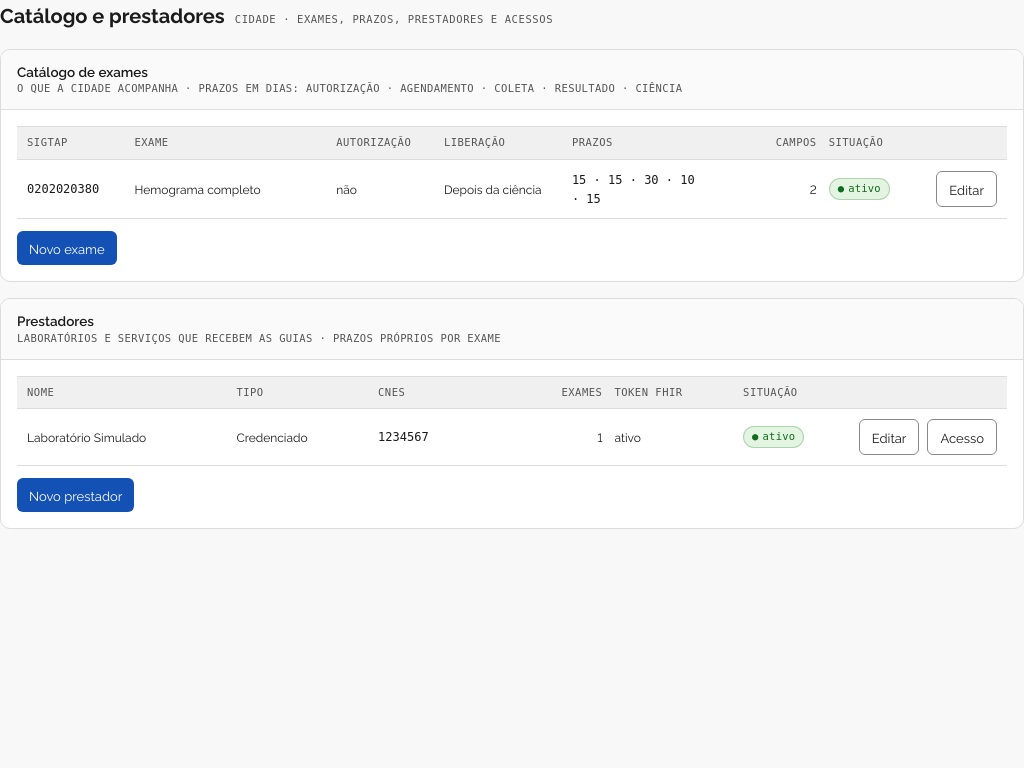
Test case: ExamsAdmin — prestadores › depois de revogar, o acesso relido só oferece Gerar
What coordinates should you click on to do the following:
click the button with aria-label "Acesso de Laboratório Simulado"
I would click on:
 (962, 437)
Its box is 927,419 -> 997,455.
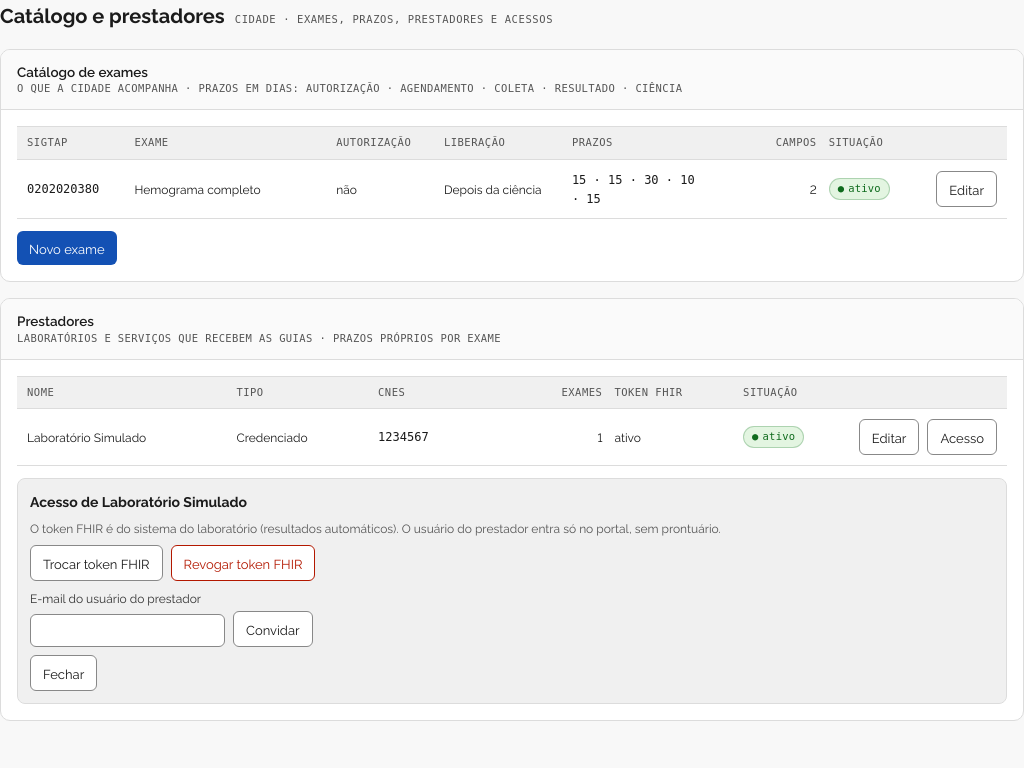
What coordinates should you click on to do the following:
click the button "Revogar token FHIR"
I would click on:
 (243, 563)
Its box is 171,545 -> 315,581.
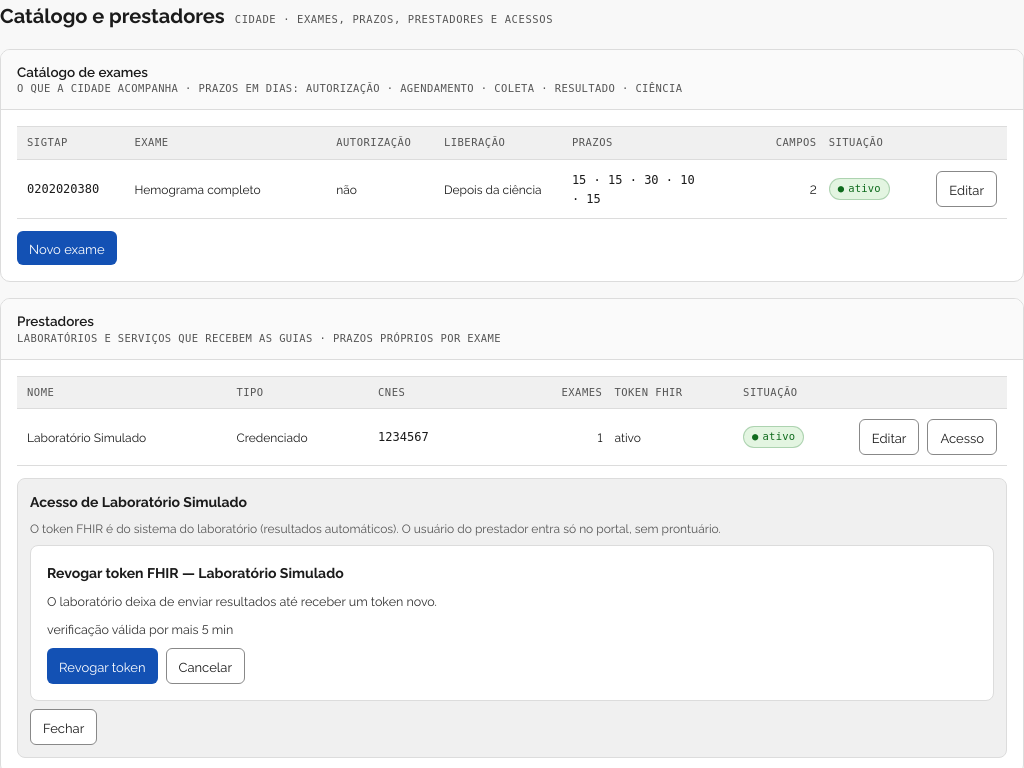
What coordinates should you click on to do the following:
click the button "Revogar token"
I would click on:
 (102, 666)
Its box is 47,648 -> 158,684.
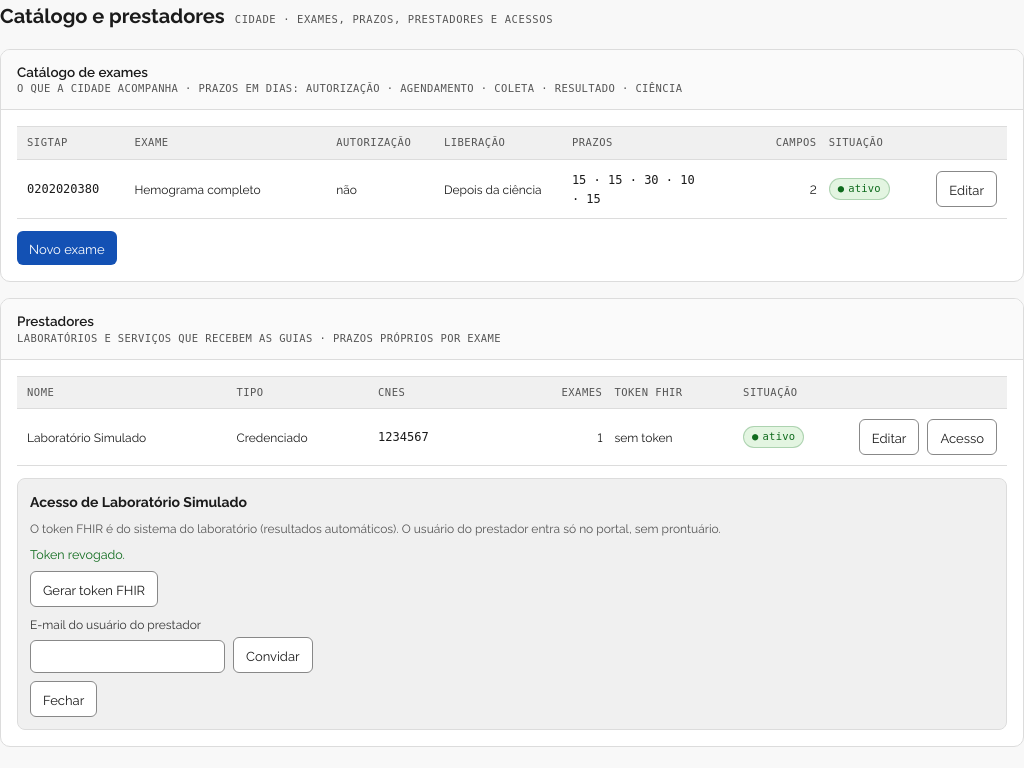
Expected: the button "Trocar token FHIR" is not shown
Expected: the button "Gerar token FHIR" is shown, 30,571 -> 158,607
Expected: the text "Revogar token FHIR" is gone
